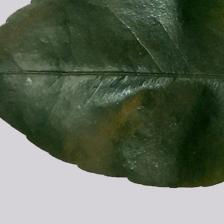healthy: (0, 0, 224, 189)
